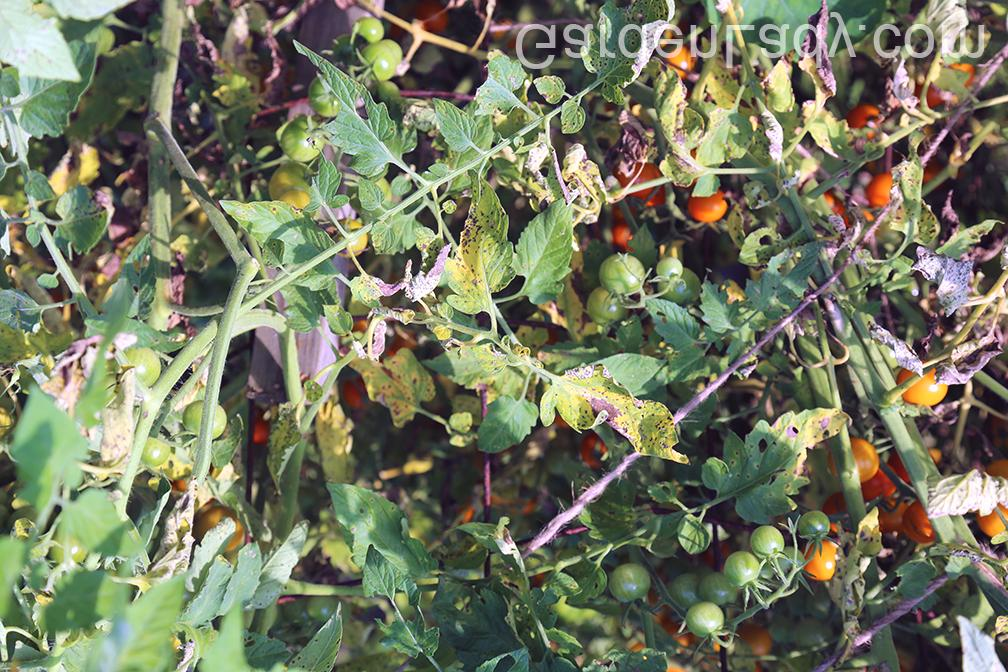Tomato Early blight leaf: (536, 361, 693, 465), (703, 408, 842, 519), (331, 481, 430, 580), (447, 183, 516, 313), (225, 198, 347, 257), (356, 352, 434, 421), (425, 346, 513, 389)
Tomato leaf: (510, 198, 579, 302)
